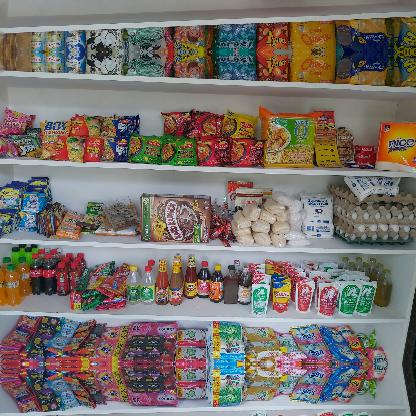Koko-Krunch: (138, 191, 212, 244)
